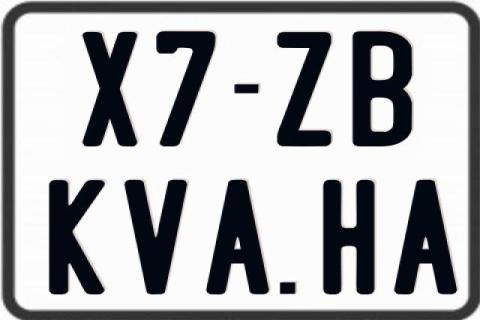0: (154, 31, 219, 151)
A: (393, 178, 458, 296), (203, 179, 268, 293)
B: (350, 29, 415, 149)
H: (323, 180, 377, 298)
K: (46, 179, 105, 295)
V: (123, 180, 188, 298)
X: (83, 30, 141, 144)
Z: (277, 32, 336, 147)
